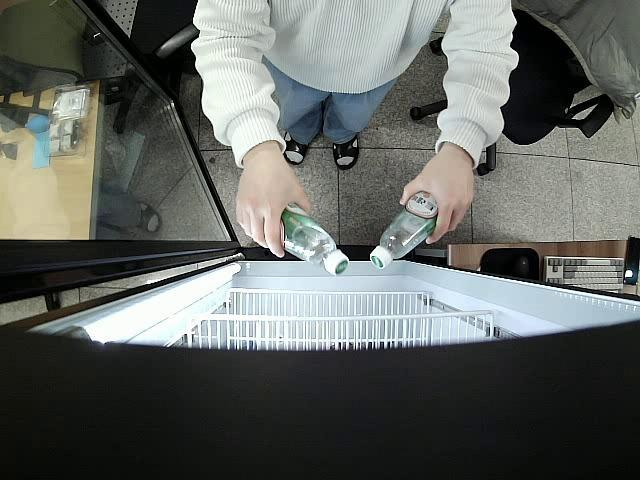18_trevi: (371, 188, 438, 270), (278, 204, 350, 278)
